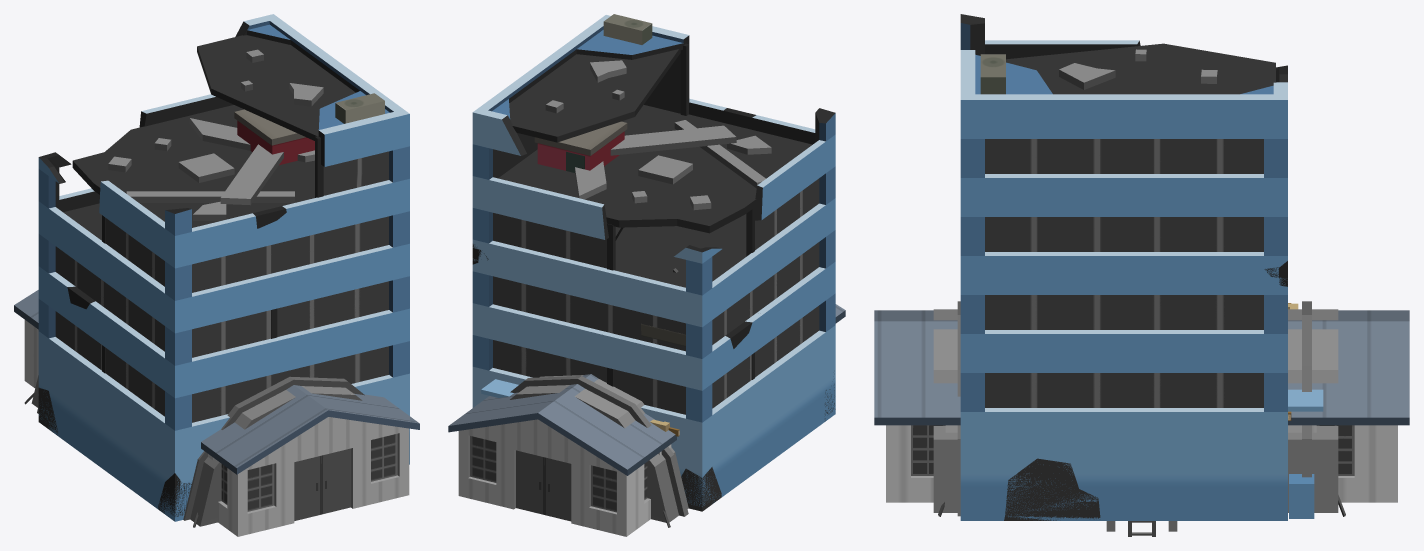
Rendered from Buildings.gltf.
3 renders of one model, left to right at view 1: azimuth 30°, elevation 25°; view 2: azimuth 150°, elevation 25°; view 3: azimuth 270°, elevation 25°, orthographic. The views are drawn at different scales.
Parts seen in each view (by area): view 1: SM_Bld_Office_Damaged_02, SM_Bld_Office_Damaged_01, SM_Bld_Barracks_01, SM_Bld_Building_02, SM_Bld_Apartment_Damaged_02; view 2: SM_Bld_Office_Damaged_02, SM_Bld_Office_Damaged_01, SM_Bld_Barracks_01, SM_Bld_Building_02, SM_Bld_Apartment_Damaged_02, SM_Bld_Apartment_Damaged_01; view 3: SM_Bld_Office_Damaged_02, SM_Bld_Office_Damaged_01, SM_Bld_Barracks_01, SM_Bld_Building_02.
Boxes of the visible parts, box(x1,y1,x2,y2) form: SM_Bld_Office_Damaged_02: box(38, 14, 409, 516); SM_Bld_Office_Damaged_01: box(38, 243, 409, 521); SM_Bld_Barracks_01: box(14, 290, 419, 536); SM_Bld_Building_02: box(31, 375, 364, 526); SM_Bld_Apartment_Damaged_02: box(234, 109, 314, 165); SM_Bld_Office_Damaged_02: box(472, 14, 835, 506); SM_Bld_Office_Damaged_01: box(472, 240, 835, 511); SM_Bld_Barracks_01: box(448, 304, 845, 536); SM_Bld_Building_02: box(510, 375, 688, 522); SM_Bld_Apartment_Damaged_02: box(534, 121, 678, 272); SM_Bld_Apartment_Damaged_01: box(641, 324, 685, 346); SM_Bld_Office_Damaged_02: box(960, 14, 1287, 520); SM_Bld_Office_Damaged_01: box(960, 252, 1323, 520); SM_Bld_Barracks_01: box(874, 310, 1409, 502); SM_Bld_Building_02: box(933, 301, 1338, 516).
Bounding box in the file's own units: 0.1362 × 0.2302 × 0.2238.
2 materials, 2 textured.
